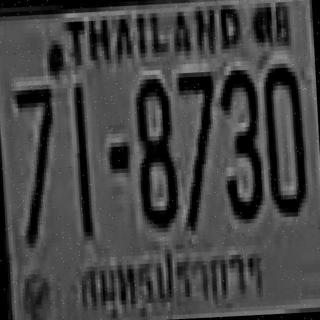N00: (260, 58, 307, 214)
N01: (71, 81, 91, 235)
N03: (217, 65, 262, 220)
N07: (13, 82, 58, 242), (176, 67, 218, 227)
N08: (133, 74, 177, 225)
P57: (70, 235, 273, 320)
